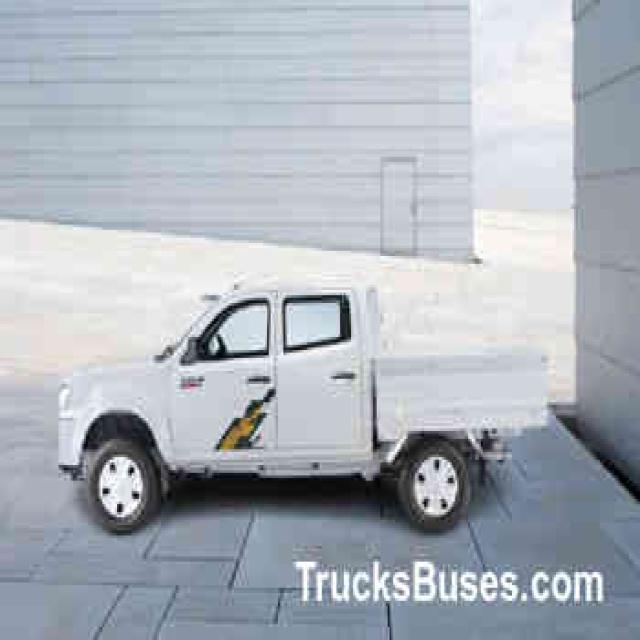light_vehicle: (60, 274, 549, 530)
